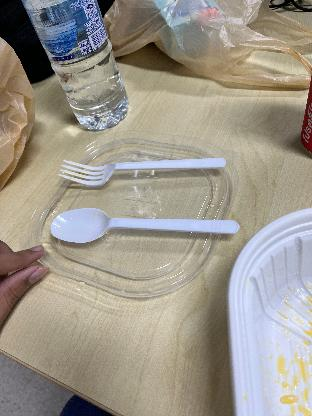Others: (49, 199, 245, 248), (53, 156, 235, 184)
Plastic Bottle: (30, 0, 130, 132)
